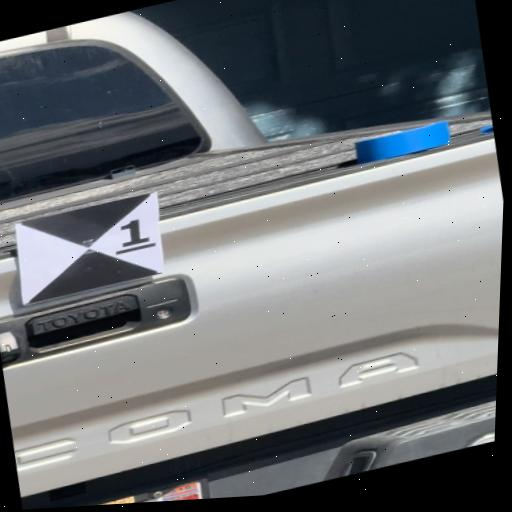target1: (12, 190, 168, 305)
